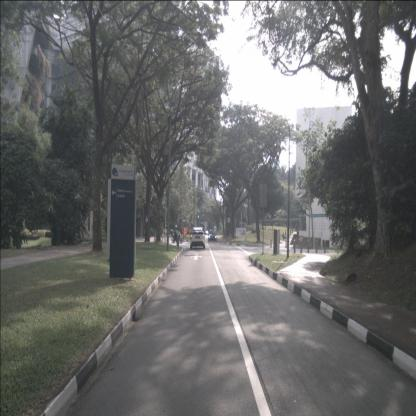vehicle-car: (190, 227, 205, 249), (208, 230, 217, 242)
vehicle-motorcycle: (170, 225, 182, 244)
